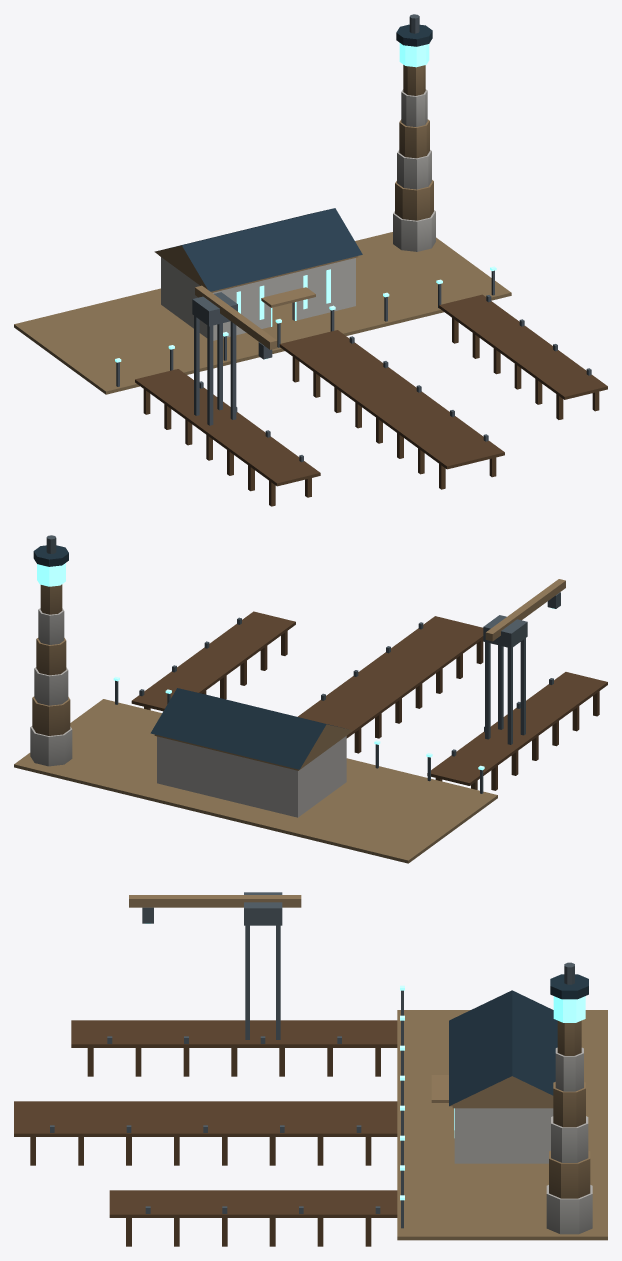
Rendered from shaddai_realm_landmarks_ocean_v01.glb.
3 renders of one model, top to bottom at view 1: azimuth 30°, elevation 25°; view 2: azimuth 150°, elevation 25°; view 3: azimuth 270°, elevation 25°, orthographic. The views are drawn at different scales.
Parts seen in each view (by area): view 1: shaddai_landmark_ocean_harbor; view 2: shaddai_landmark_ocean_harbor; view 3: shaddai_landmark_ocean_harbor.
Part boxes in pixels (x1,y1,x2,y2): shaddai_landmark_ocean_harbor: [14, 14, 607, 506]; shaddai_landmark_ocean_harbor: [14, 535, 607, 863]; shaddai_landmark_ocean_harbor: [14, 892, 607, 1246].
Bounding box in the file's own units: 56 × 33 × 62.
